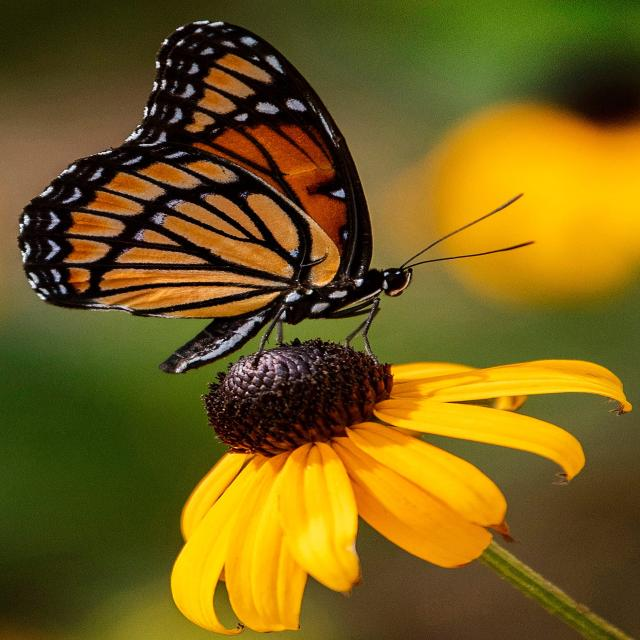butterfly: (51, 15, 444, 351)
